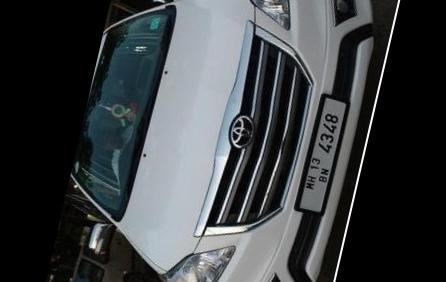plate: (280, 77, 358, 226)
